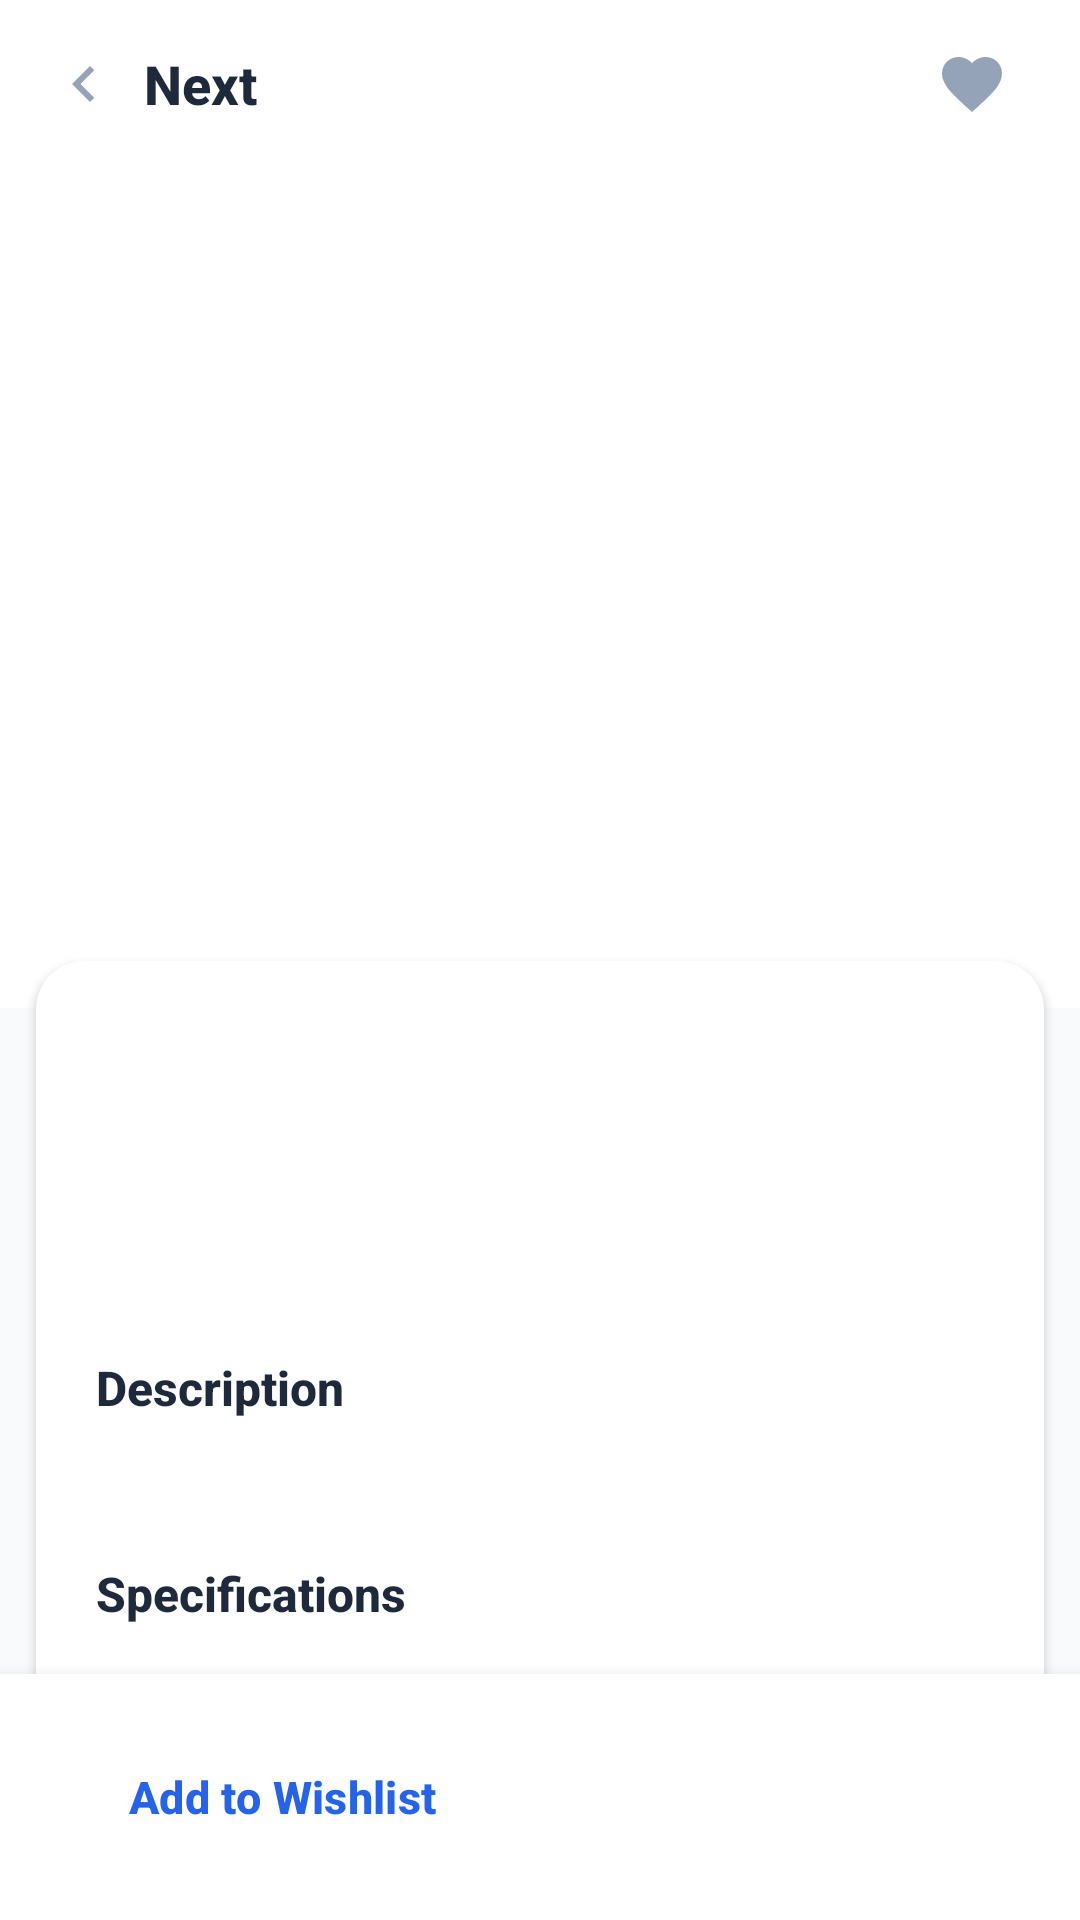

Icon click points for this 1080px×1920px phone screenshot, format (x,y):
Add to Wishlist: (972,84)
